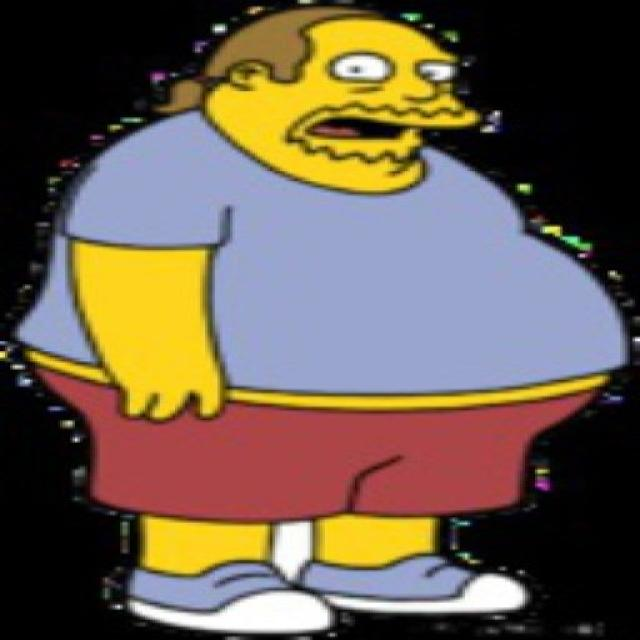Comic Book Guy: (160, 8, 485, 198)
